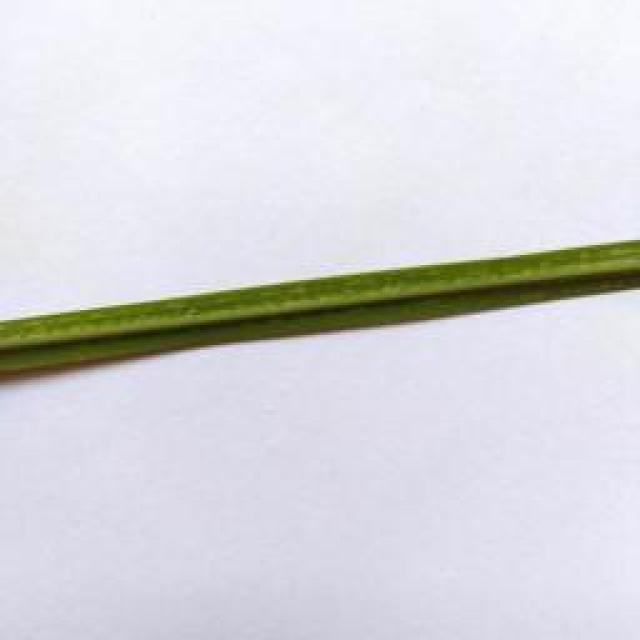Healthy-Plant: (0, 240, 640, 376)
